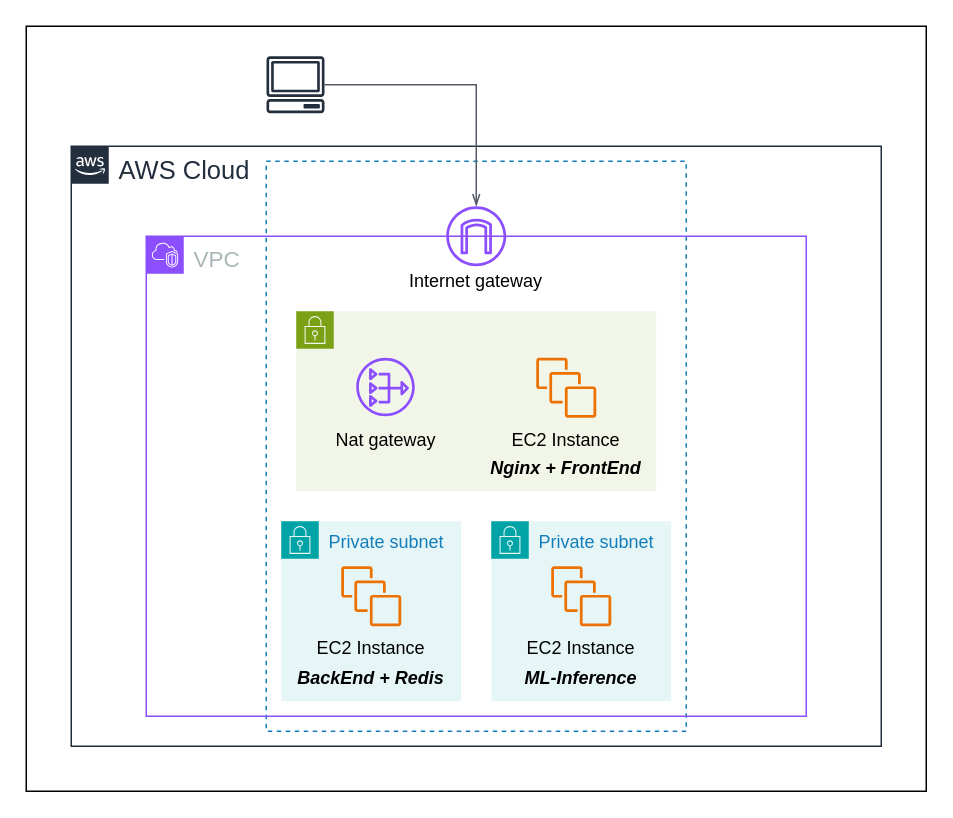
Some shapes in this 953 by 818 pixel diagram are drawn without their labels. The box of each missing label's shape, as (x1, y1, x2, y2) in pixels:
Availability Zone: (265, 160, 686, 731)
Public subnet: (295, 310, 656, 491)
